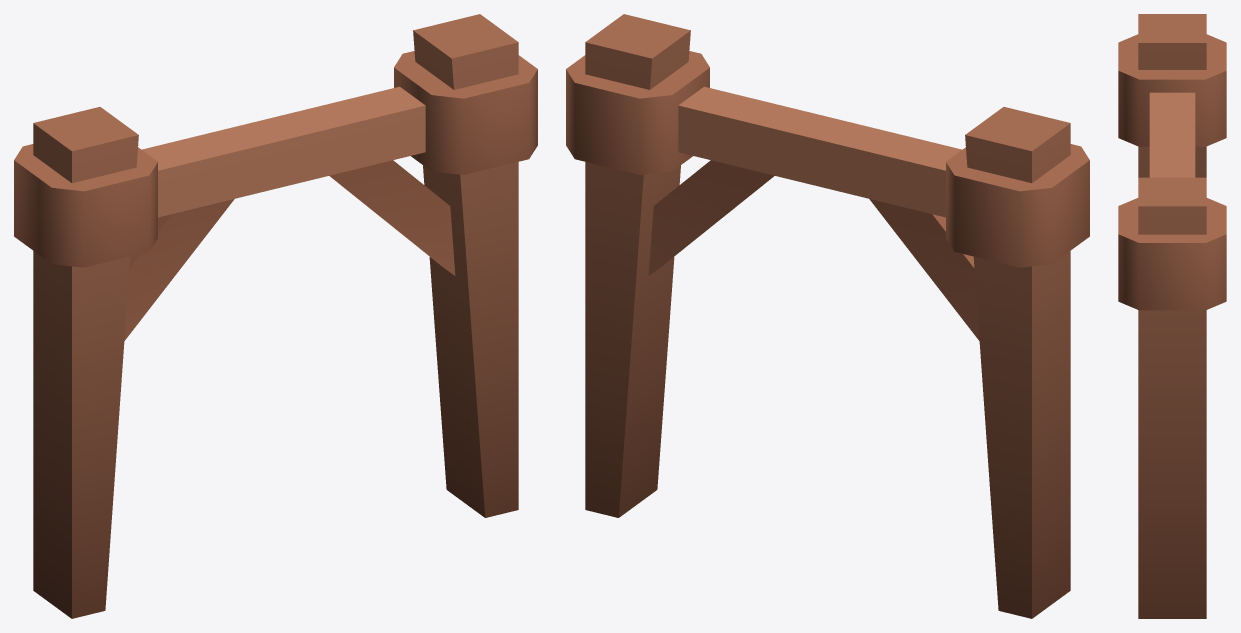
Rendered from wood-support.glb.
3 views of the same model, side by side, from view 1: azimuth 30°, elevation 25°; view 2: azimuth 150°, elevation 25°; view 3: azimuth 270°, elevation 25° (orthographic). The views are drawn at different scales.
Parts seen in each view (by area): view 1: wood-support; view 2: wood-support; view 3: wood-support.
Part boxes in pixels (x1=…): wood-support: x1=14, y1=14, x2=537, y2=618; wood-support: x1=566, y1=14, x2=1089, y2=618; wood-support: x1=1118, y1=14, x2=1226, y2=618.
Bounding box in the file's own units: 3.26 × 3 × 0.7141.
